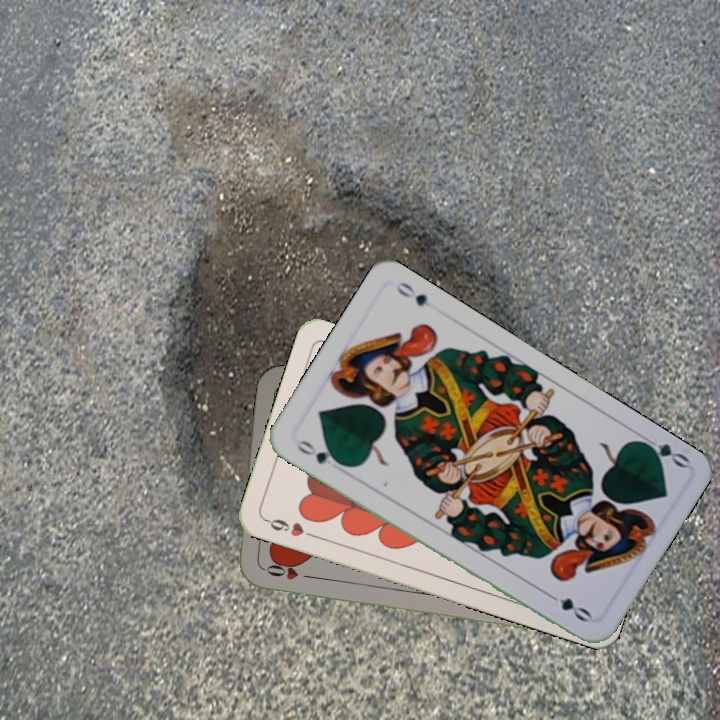GO: (635, 430, 692, 471), (293, 436, 346, 469)
H9: (261, 514, 319, 541)
HO: (257, 559, 315, 583)
